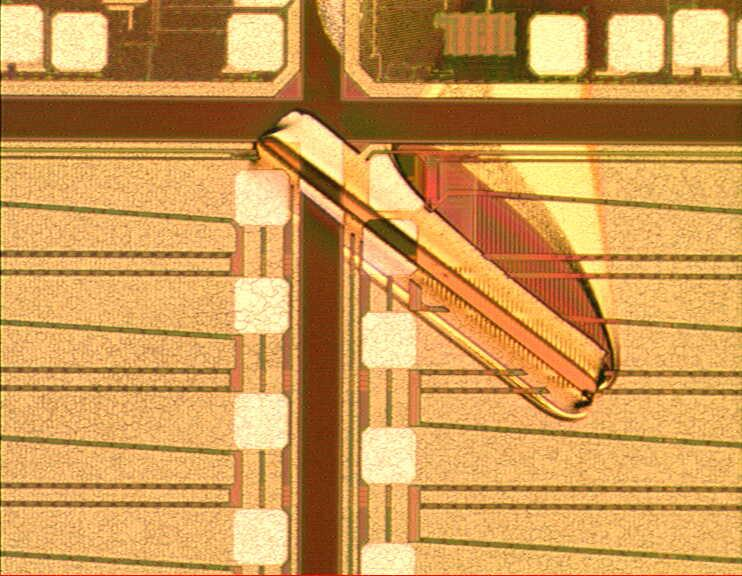COATING BAD: (244, 1, 626, 428)
